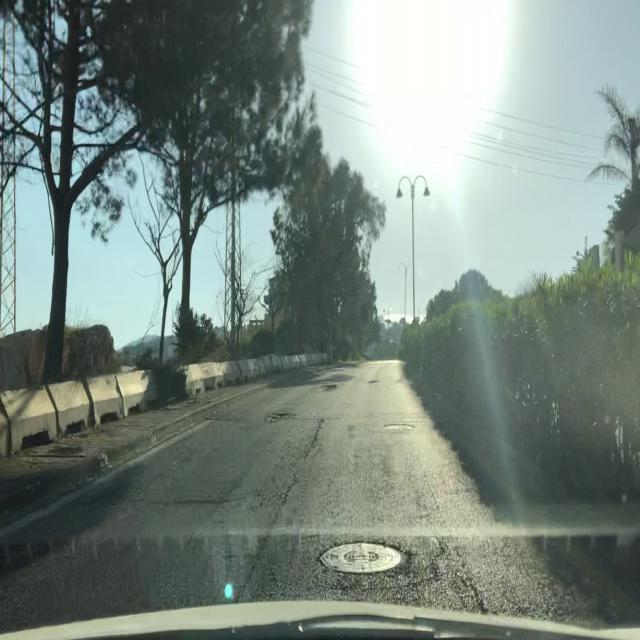pothole: (264, 411, 291, 425), (314, 383, 336, 393)
